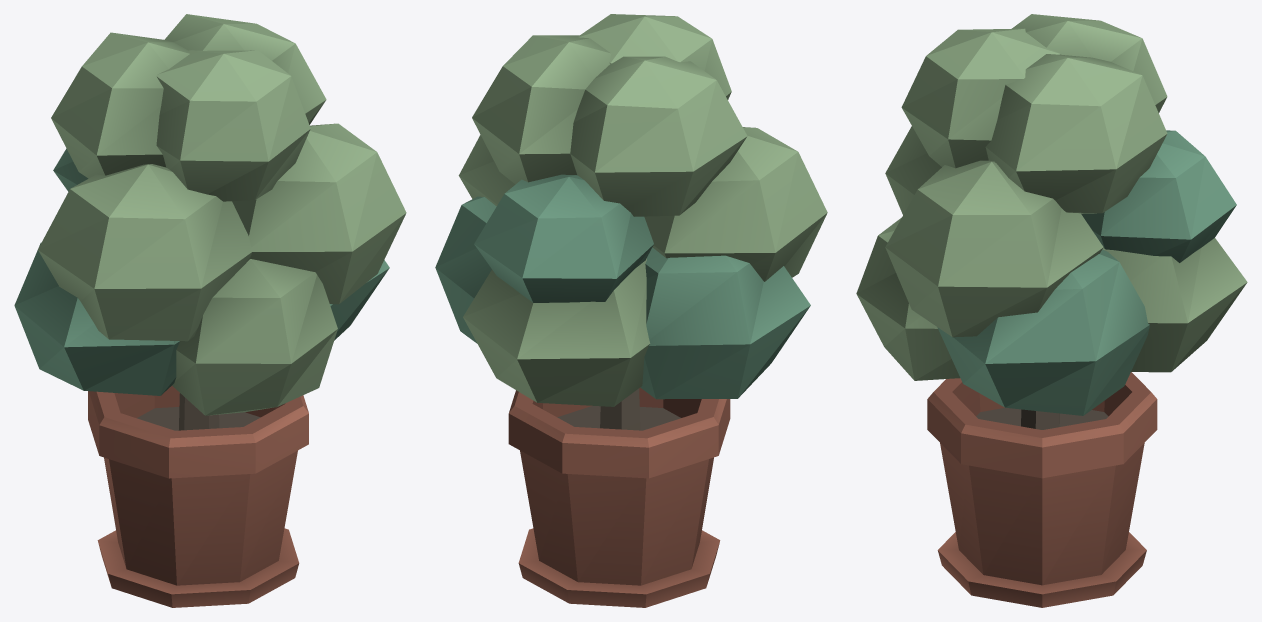
File: potted.glb
3 renders of one model, left to right at view 1: azimuth 30°, elevation 25°; view 2: azimuth 150°, elevation 25°; view 3: azimuth 270°, elevation 25°, orthographic.
Parts seen in each view (by area): view 1: potted; view 2: potted; view 3: potted.
Boxes of the visible parts, x1=… form: potted: x1=14, y1=14, x2=406, y2=607; potted: x1=435, y1=14, x2=827, y2=607; potted: x1=856, y1=14, x2=1247, y2=607.
Bounding box in the file's own units: 0.8867 × 1.38 × 0.9197.
